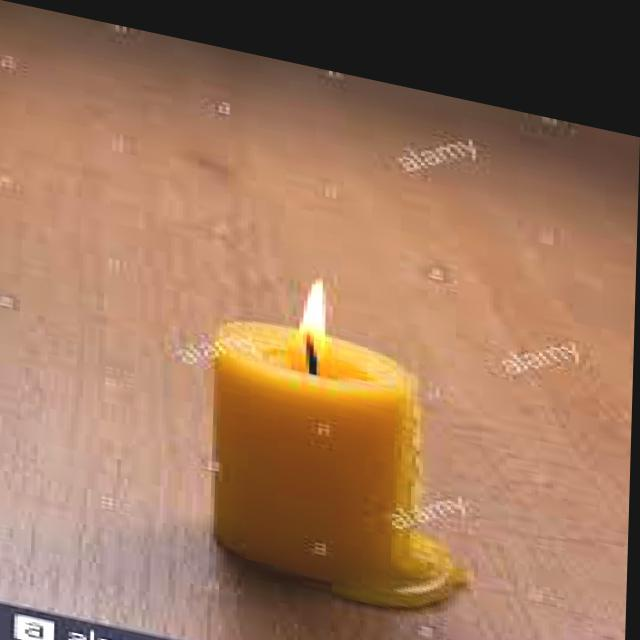Fire: (286, 254, 332, 334)
